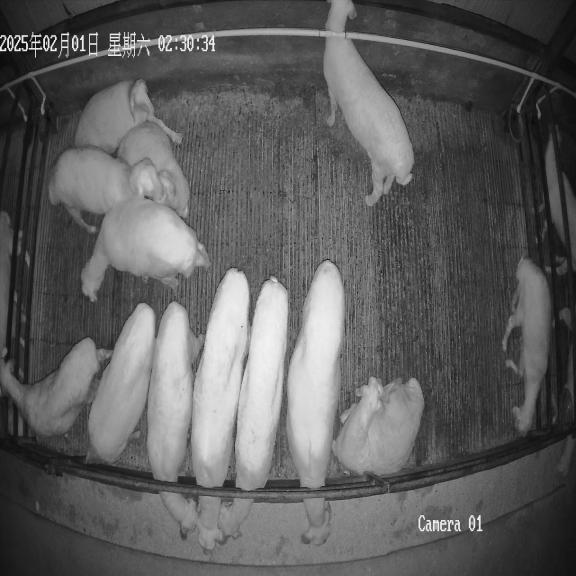eating: (223, 277, 288, 539), (191, 268, 250, 554), (286, 260, 345, 546), (146, 302, 203, 541), (87, 303, 155, 463)
lying: (333, 377, 424, 476), (74, 79, 182, 154), (116, 121, 189, 216)
stand: (323, 0, 414, 206), (81, 195, 210, 300), (0, 338, 112, 437), (48, 147, 169, 232), (502, 258, 551, 434)
